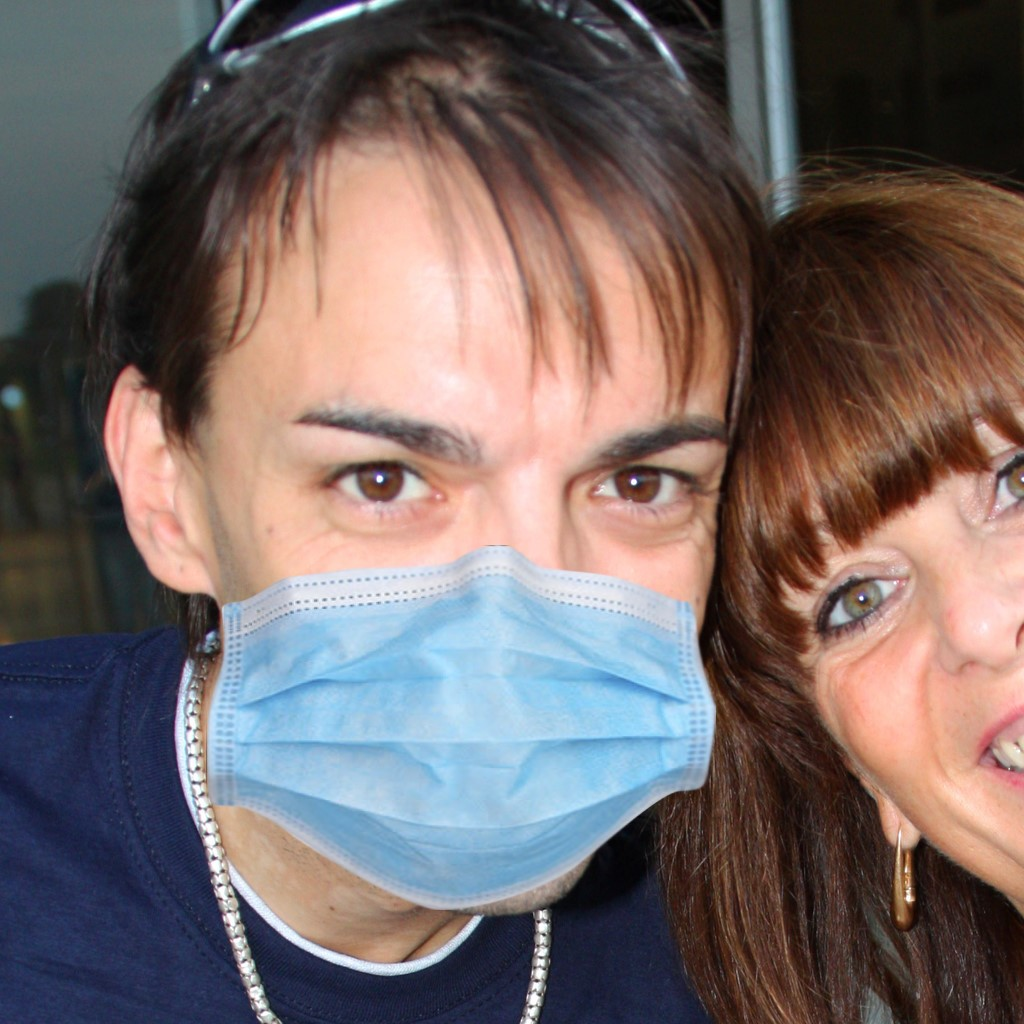con_mascara: (199, 123, 723, 890)
